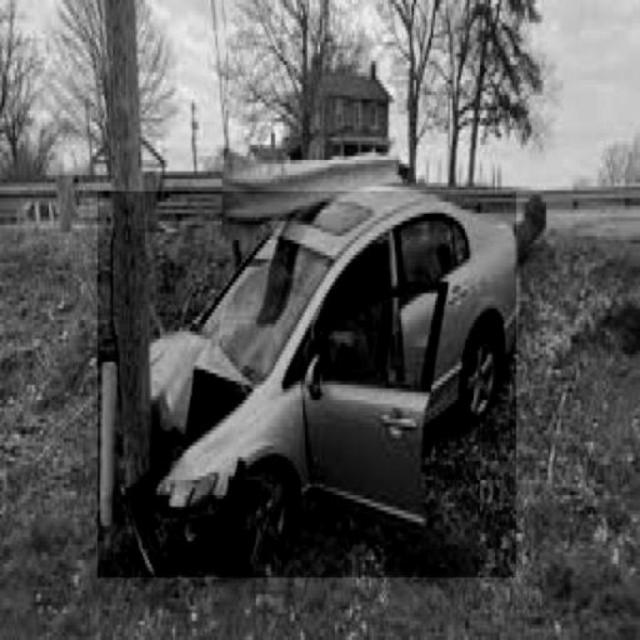accident: (98, 192, 516, 578)
